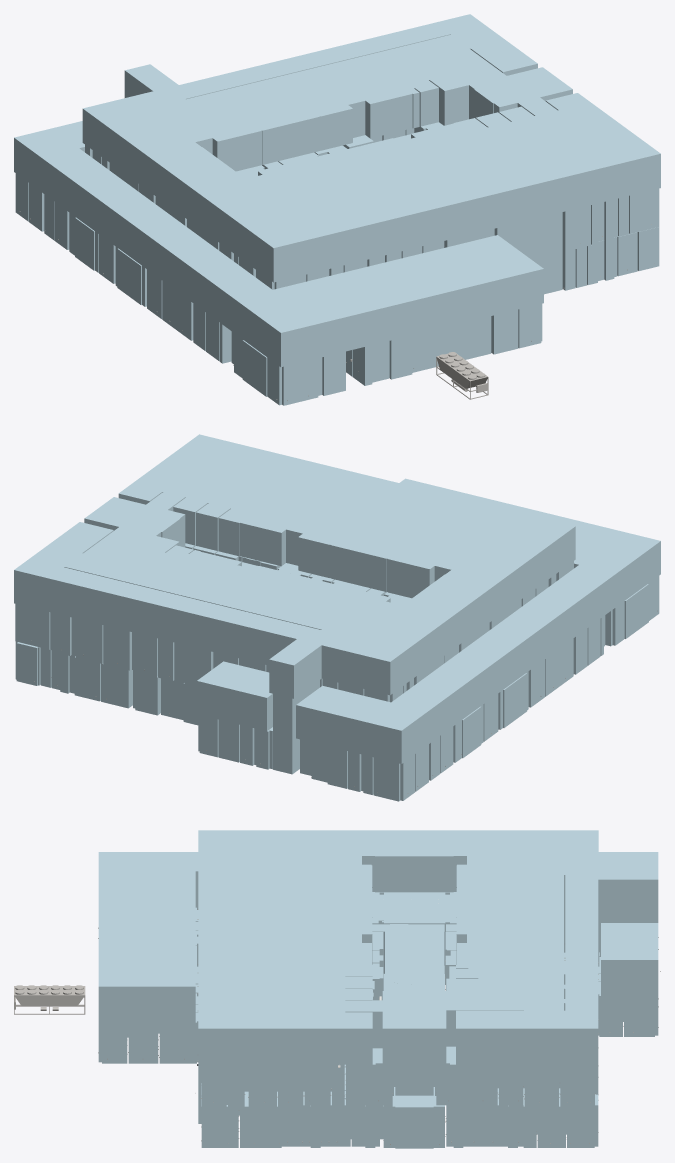
3 views of the same model, one above another, from view 1: azimuth 30°, elevation 25°; view 2: azimuth 150°, elevation 25°; view 3: azimuth 270°, elevation 25° (orthographic). The views are drawn at different scales.
Visible parts, largest first — view 1: 2VHACsgD1E4Q6$j_TZzvLT, 2VHACsgD1E4Q6$j_TZzvKk, 30C8Tgpln5Khj3mpxiujV5, 30C8Tgpln5Khj3mpxiujVr, 2VHACsgD1E4Q6$j_TZzvLU, 30C8Tgpln5Khj3mpxiujsB, 2H3wYxUIPBpw3mjj9GlAnl, 30C8Tgpln5Khj3mpxiujVD, 2VHACsgD1E4Q6$j_TZzvLS, 30C8Tgpln5Khj3mpxiujUf, 30C8Tgpln5Khj3mpxiujUl, 30C8Tgpln5Khj3mpxiujHT (+16 smaller); view 2: 2VHACsgD1E4Q6$j_TZzvLT, 2VHACsgD1E4Q6$j_TZzvKk, 2VHACsgD1E4Q6$j_TZzvLG, 2VHACsgD1E4Q6$j_TZzvLU, 30C8Tgpln5Khj3mpxiujVr, 30C8Tgpln5Khj3mpxiujUJ, 30C8Tgpln5Khj3mpxiujh3, 30C8Tgpln5Khj3mpxiujHx, 30C8Tgpln5Khj3mpxiujGD, 30C8Tgpln5Khj3mpxiujUf, 30C8Tgpln5Khj3mpxiujHT, 30C8Tgpln5Khj3mpxiujhP (+26 smaller); view 3: 2VHACsgD1E4Q6$j_TZzvLT, 2VHACsgD1E4Q6$j_TZzvKk, 2VHACsgD1E4Q6$j_TZzvLU, 30C8Tgpln5Khj3mpxiujSx, 2VHACsgD1E4Q6$j_TZzvLG, 30C8Tgpln5Khj3mpxiujGn, 30C8Tgpln5Khj3mpxiujGb, 30C8Tgpln5Khj3mpxiujs1, 30C8Tgpln5Khj3mpxiujeN, 30C8Tgpln5Khj3mpxiujhD, 30C8Tgpln5Khj3mpxiujfT, 2H3wYxUIPBpw3mjj9GlAnl (+23 smaller).
Part boxes in pixels (x1,y1,x2,y2): 2VHACsgD1E4Q6$j_TZzvLT: (82,14,660,282); 2VHACsgD1E4Q6$j_TZzvKk: (14,121,543,367); 30C8Tgpln5Khj3mpxiujV5: (389,316,491,379); 30C8Tgpln5Khj3mpxiujVr: (234,333,318,405); 2VHACsgD1E4Q6$j_TZzvLU: (469,67,572,119); 30C8Tgpln5Khj3mpxiujsB: (513,212,562,258); 2H3wYxUIPBpw3mjj9GlAnl: (436,352,488,399); 30C8Tgpln5Khj3mpxiujVD: (352,341,389,385); 2VHACsgD1E4Q6$j_TZzvLS: (440,72,506,125); 30C8Tgpln5Khj3mpxiujUf: (115,247,146,306); 30C8Tgpln5Khj3mpxiujUl: (162,281,193,340); 30C8Tgpln5Khj3mpxiujHT: (69,212,98,272); 2VHACsgD1E4Q6$j_TZzvLT: (14,434,575,698); 2VHACsgD1E4Q6$j_TZzvKk: (296,478,660,763); 2VHACsgD1E4Q6$j_TZzvLG: (197,661,272,731); 2VHACsgD1E4Q6$j_TZzvLU: (84,497,185,547); 30C8Tgpln5Khj3mpxiujVr: (605,576,659,646); 30C8Tgpln5Khj3mpxiujUJ: (373,754,415,801); 30C8Tgpln5Khj3mpxiujh3: (15,604,50,649); 30C8Tgpln5Khj3mpxiujHx: (240,725,272,769); 30C8Tgpln5Khj3mpxiujGD: (101,663,132,708); 30C8Tgpln5Khj3mpxiujUf: (498,671,528,729); 30C8Tgpln5Khj3mpxiujHT: (453,704,483,762); 30C8Tgpln5Khj3mpxiujhP: (103,625,131,670); 2VHACsgD1E4Q6$j_TZzvLT: (198,830,658,1064); 2VHACsgD1E4Q6$j_TZzvKk: (98,852,658,1022); 2VHACsgD1E4Q6$j_TZzvLU: (382,990,446,1086); 30C8Tgpln5Khj3mpxiujSx: (240,1091,350,1147); 2VHACsgD1E4Q6$j_TZzvLG: (601,923,658,995); 30C8Tgpln5Khj3mpxiujGn: (446,1093,536,1147); 30C8Tgpln5Khj3mpxiujGb: (380,1087,444,1148); 30C8Tgpln5Khj3mpxiujs1: (384,931,444,984); 30C8Tgpln5Khj3mpxiujeN: (372,892,456,965); 30C8Tgpln5Khj3mpxiujhD: (435,1046,497,1106); 30C8Tgpln5Khj3mpxiujfT: (346,1048,393,1106); 2H3wYxUIPBpw3mjj9GlAnl: (14,985,85,1014).
Bounding box in the file's own units: 52.59 × 14.47 × 65.15.
